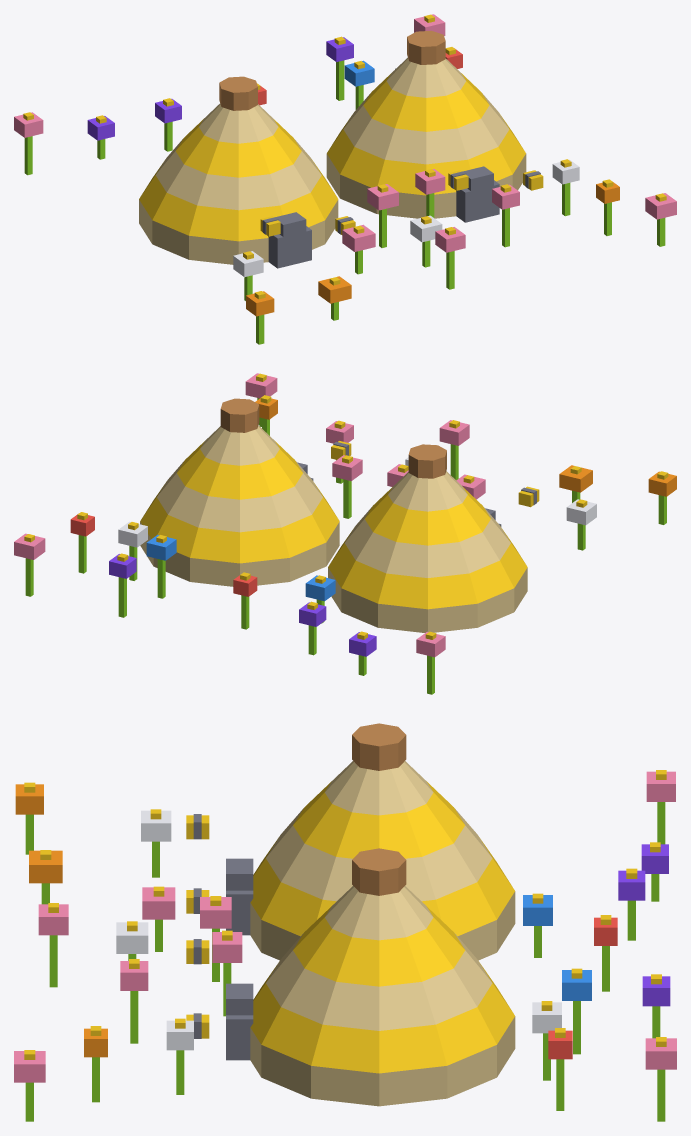
Rendered from hive-1x1-t2.glb.
3 views of the same model, one above another, from view 1: azimuth 30°, elevation 25°; view 2: azimuth 150°, elevation 25°; view 3: azimuth 270°, elevation 25° (orthographic). The views are drawn at different scales.
Visible parts, largest first — view 1: hive-1x1-t2; view 2: hive-1x1-t2; view 3: hive-1x1-t2.
Part boxes in pixels (x1,y1,x2,y2): hive-1x1-t2: (14, 14, 676, 344); hive-1x1-t2: (14, 373, 676, 694); hive-1x1-t2: (14, 723, 676, 1121).
Size of the model in its own units: 0.9852 by 0.3105 by 0.9868.
1 material, 1 textured.
